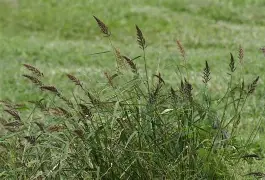weed: (0, 0, 264, 141), (0, 0, 264, 98)
